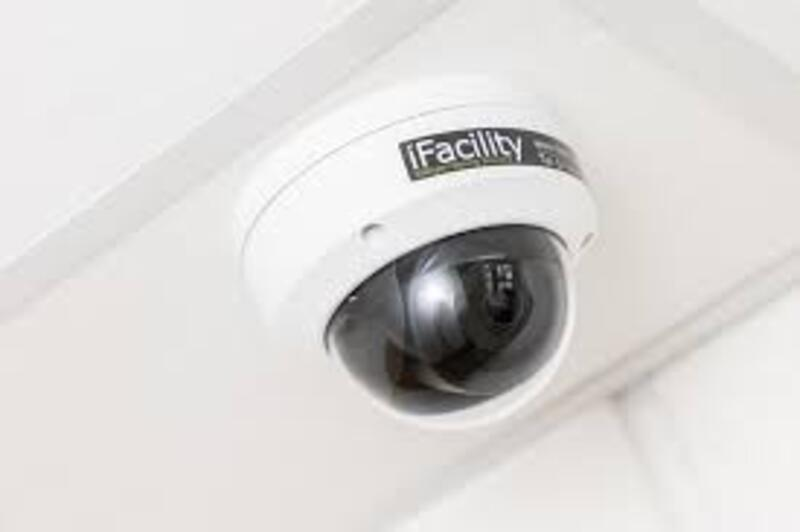dome: (166, 210, 516, 532)
